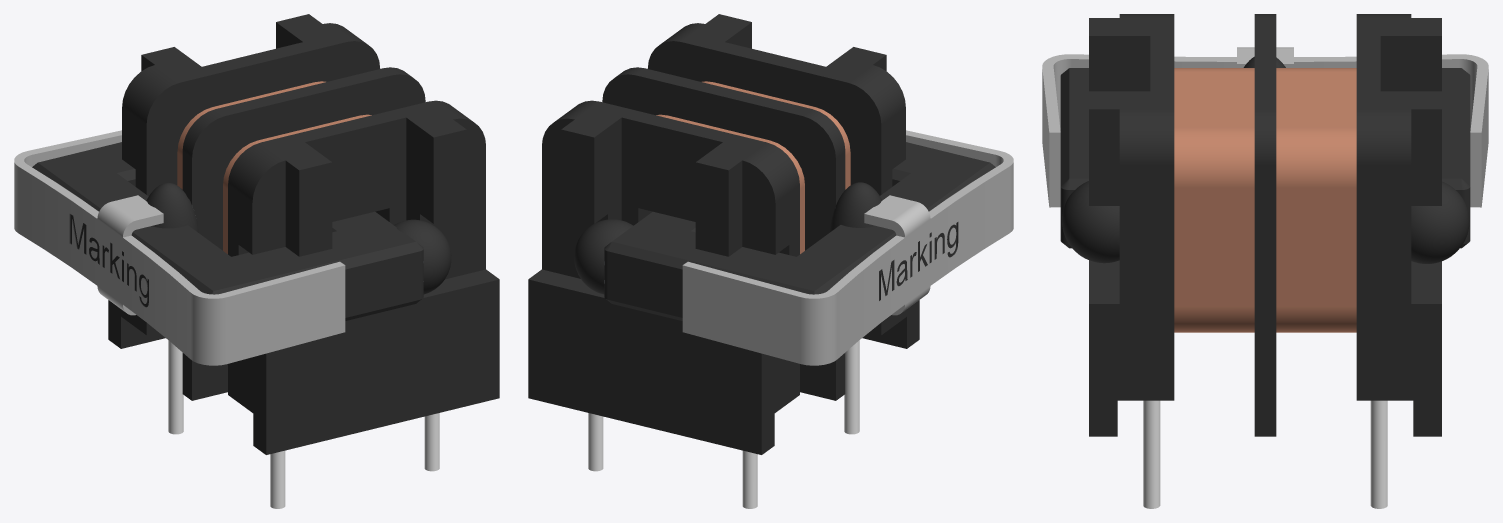
The model's file is WE-TFC Common Mode Power Line Choke.gltf.
The picture shows the model from 3 angles, left to right: view 1: azimuth 30°, elevation 25°; view 2: azimuth 150°, elevation 25°; view 3: azimuth 270°, elevation 25°; orthographic projection. The views are drawn at different scales.
Parts seen in each view (by area): view 1: bobbin_UU-9.8, clip_UU-9.8, core_UU-9.001, core_UU-9.8, Glue 1, Glue 3; view 2: bobbin_UU-9.8, clip_UU-9.8, core_UU-9.8, core_UU-9.001, Glue 2, Glue 3; view 3: bobbin_UU-9.8, clip_UU-9.8, core_UU-9.001, core_UU-9.8, Glue 2, Glue 1.
Boxes of the visible parts, x1=… form: bobbin_UU-9.8: x1=108, y1=14, x2=499, y2=508; clip_UU-9.8: x1=14, y1=130, x2=345, y2=365; core_UU-9.001: x1=131, y1=211, x2=423, y2=320; core_UU-9.8: x1=32, y1=142, x2=148, y2=211; Glue 1: x1=394, y1=219, x2=451, y2=294; Glue 3: x1=146, y1=182, x2=198, y2=232; bobbin_UU-9.8: x1=528, y1=14, x2=919, y2=508; clip_UU-9.8: x1=682, y1=130, x2=1013, y2=365; core_UU-9.8: x1=604, y1=211, x2=896, y2=320; core_UU-9.001: x1=880, y1=142, x2=995, y2=211; Glue 2: x1=574, y1=219, x2=633, y2=294; Glue 3: x1=829, y1=182, x2=882, y2=232; bobbin_UU-9.8: x1=1089, y1=14, x2=1441, y2=508; clip_UU-9.8: x1=1042, y1=47, x2=1488, y2=207; core_UU-9.001: x1=1060, y1=68, x2=1088, y2=248; core_UU-9.8: x1=1442, y1=68, x2=1470, y2=248; Glue 2: x1=1411, y1=181, x2=1469, y2=263; Glue 1: x1=1062, y1=181, x2=1119, y2=263.
Bounding box in the file's own units: 0.0143 × 0.0155 × 0.0157.
